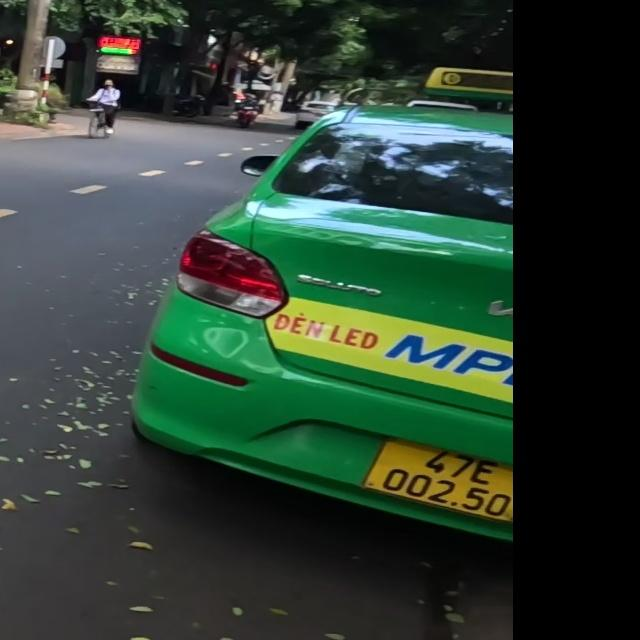license-plate: (358, 435, 513, 529)
